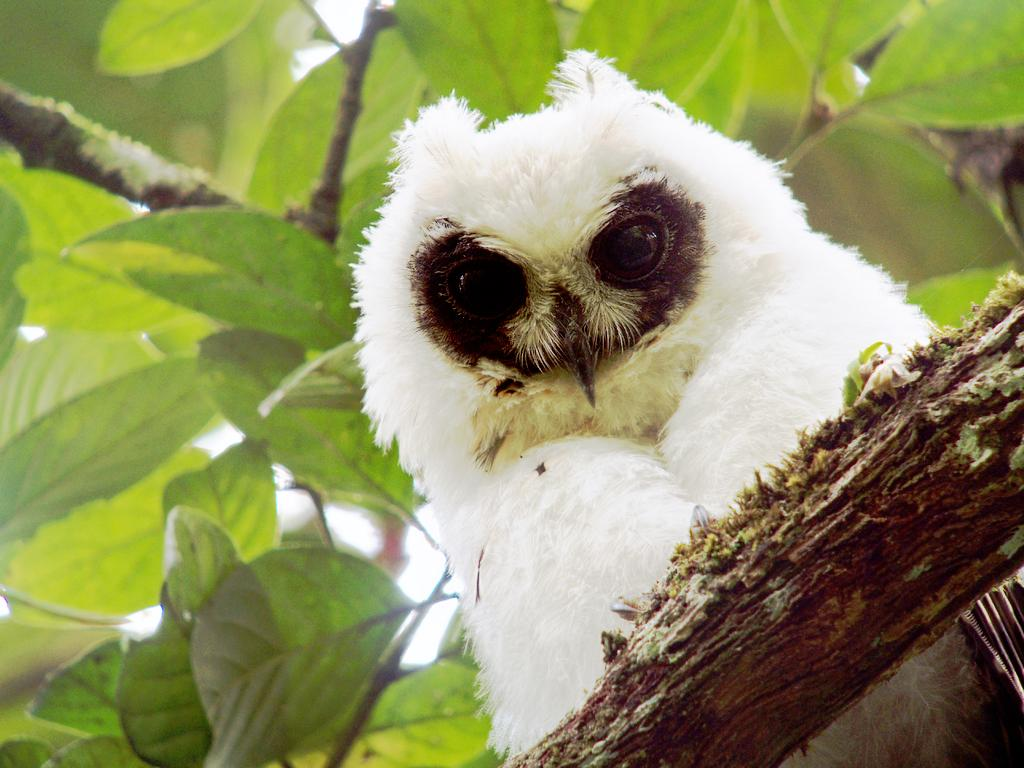Owl: (340, 49, 941, 764)
